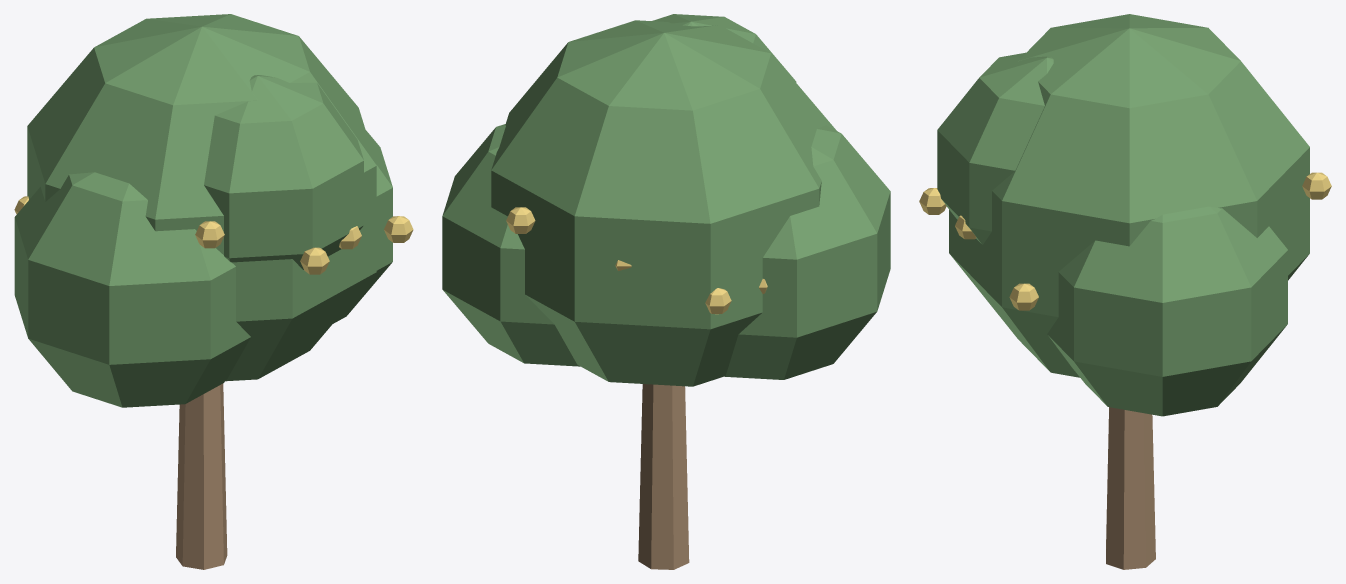
The model's file is tree_pear.glb.
The picture shows the model from 3 angles, left to right: view 1: azimuth 30°, elevation 25°; view 2: azimuth 150°, elevation 25°; view 3: azimuth 270°, elevation 25°; orthographic projection.
Parts seen in each view (by area): view 1: tree_pear; view 2: tree_pear; view 3: tree_pear.
Boxes of the visible parts, bbox=[...] form: tree_pear: bbox=[14, 14, 413, 569]; tree_pear: bbox=[442, 14, 890, 569]; tree_pear: bbox=[919, 14, 1331, 569].
Bounding box in the file's own units: 3.22 × 4.2 × 2.96.
